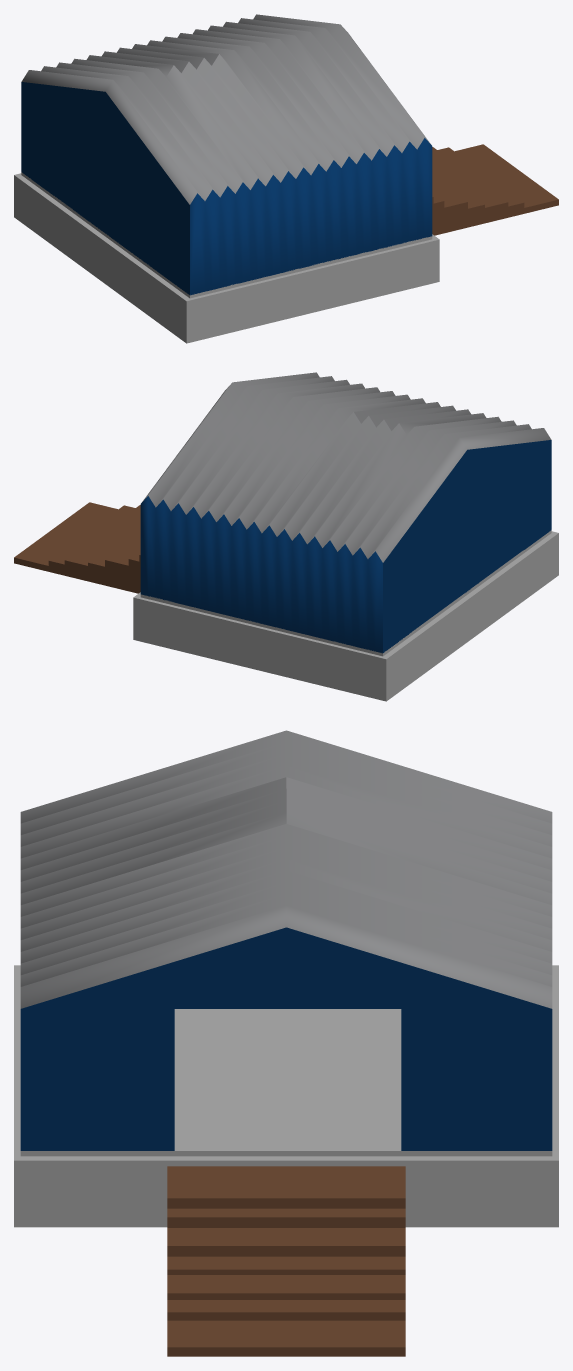
Rendered from WarehouseUpdated.fbx.
The picture shows the model from 3 angles, top to bottom: view 1: azimuth 30°, elevation 25°; view 2: azimuth 150°, elevation 25°; view 3: azimuth 270°, elevation 25°; orthographic projection. The views are drawn at different scales.
Visible parts, largest first — view 1: Warehouse1; view 2: Warehouse1; view 3: Warehouse1.
Boxes of the visible parts, <box> form: Warehouse1: <box>14,14,558,343</box>; Warehouse1: <box>14,372,558,701</box>; Warehouse1: <box>14,730,558,1356</box>.
Bounding box in the file's own units: 507 × 227 × 360.
